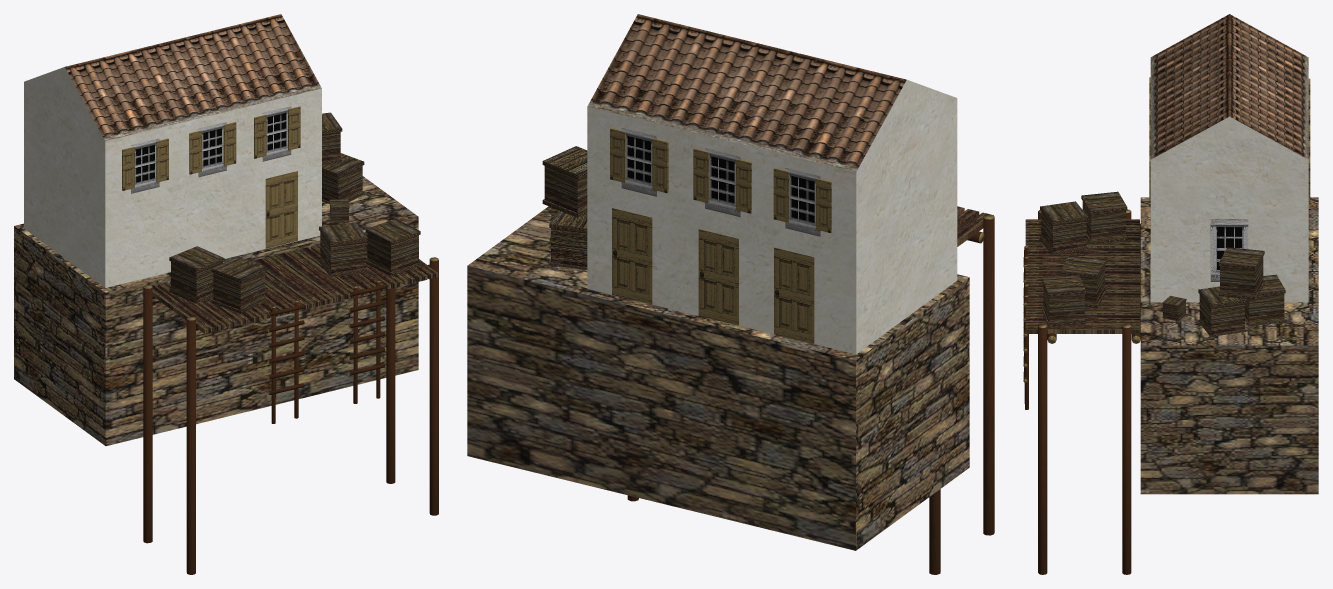
File: iber_dock.dae
3 renders of one model, left to right at view 1: azimuth 30°, elevation 25°; view 2: azimuth 150°, elevation 25°; view 3: azimuth 270°, elevation 25°, orthographic. The views are drawn at different scales.
Visible parts, largest first — view 1: IberDock; view 2: IberDock; view 3: IberDock.
Part boxes in pixels (x1,y1,x2,y2): IberDock: (14, 14, 438, 574); IberDock: (467, 14, 994, 574); IberDock: (1023, 14, 1318, 574).
Size of the model in its own units: 19.94 by 16.8 by 26.99.
